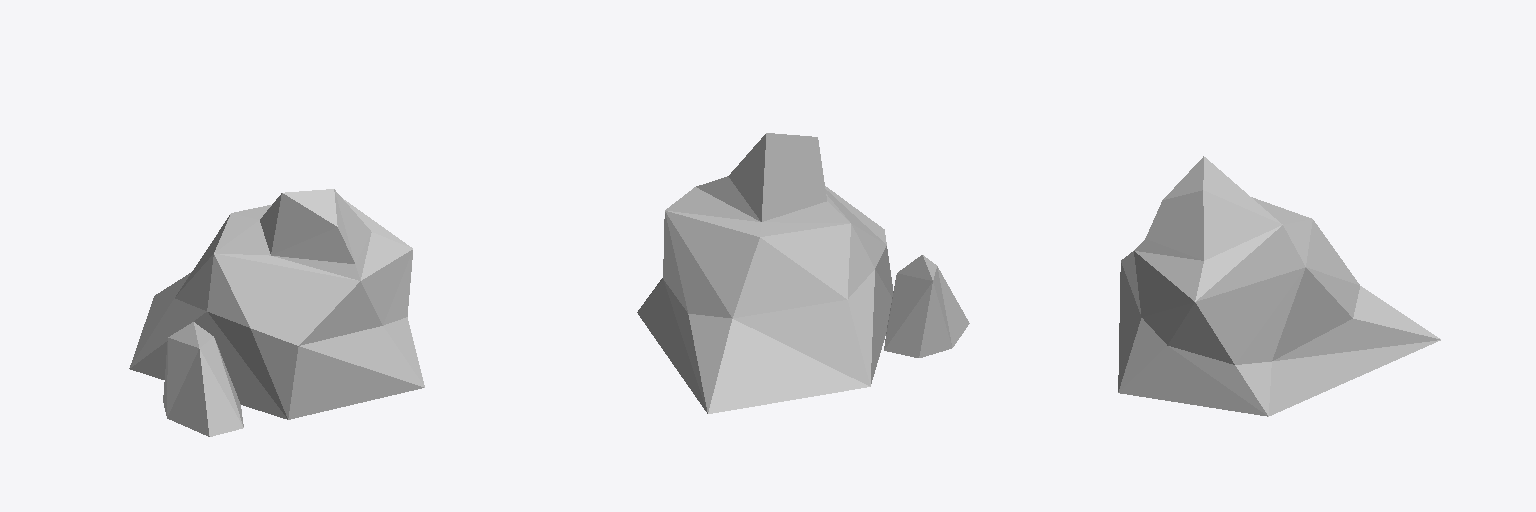
Rendered from MediumStone.obj.
3 renders of one model, left to right at view 1: azimuth 30°, elevation 25°; view 2: azimuth 150°, elevation 25°; view 3: azimuth 270°, elevation 25°, orthographic.
Visible parts, largest first — view 1: Stone_4; view 2: Stone_4; view 3: Stone_4.
Boxes of the visible parts, x1,y1,x2,y2 form: Stone_4: [129, 189, 424, 436]; Stone_4: [637, 133, 969, 413]; Stone_4: [1118, 156, 1440, 416].
Size of the model in its own units: 0.2188 by 0.1438 by 0.2242.